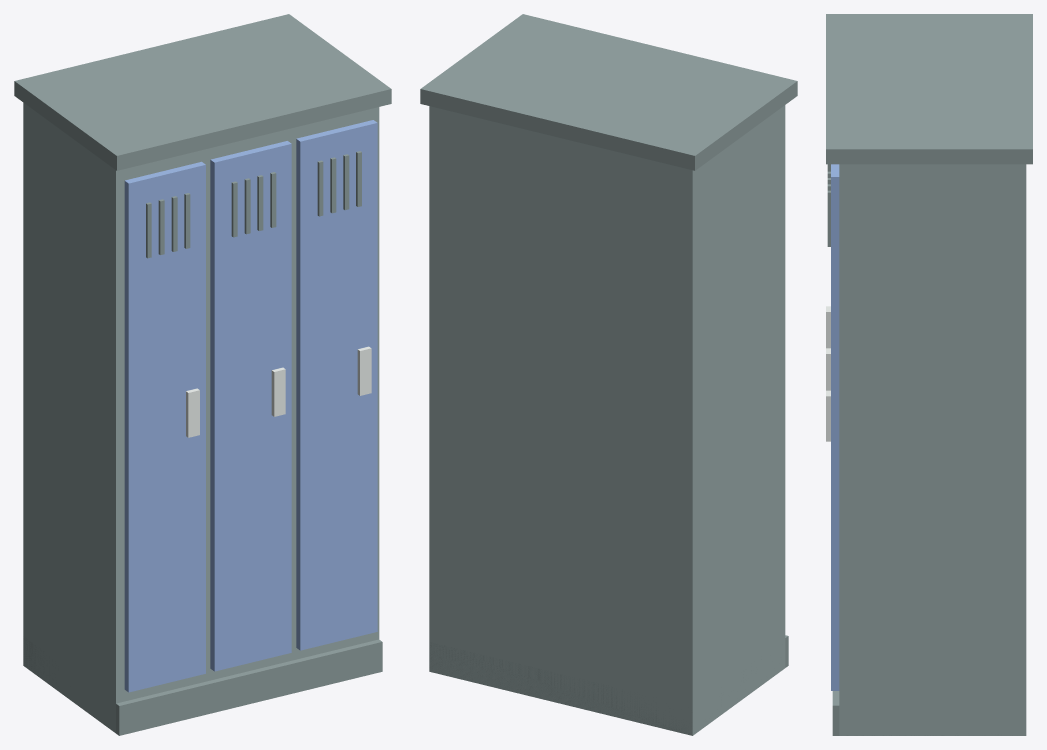
Rendered from lockerBank.glb.
The picture shows the model from 3 angles, left to right: view 1: azimuth 30°, elevation 25°; view 2: azimuth 150°, elevation 25°; view 3: azimuth 270°, elevation 25°; orthographic projection.
Visible parts, largest first — view 1: lockerBank; view 2: lockerBank; view 3: lockerBank.
Boxes of the visible parts, x1,y1,x2,y2 form: lockerBank: [14, 14, 391, 735]; lockerBank: [420, 14, 797, 735]; lockerBank: [826, 14, 1032, 735].
Bounding box in the file's own units: 0.48 × 0.975 × 0.31.
